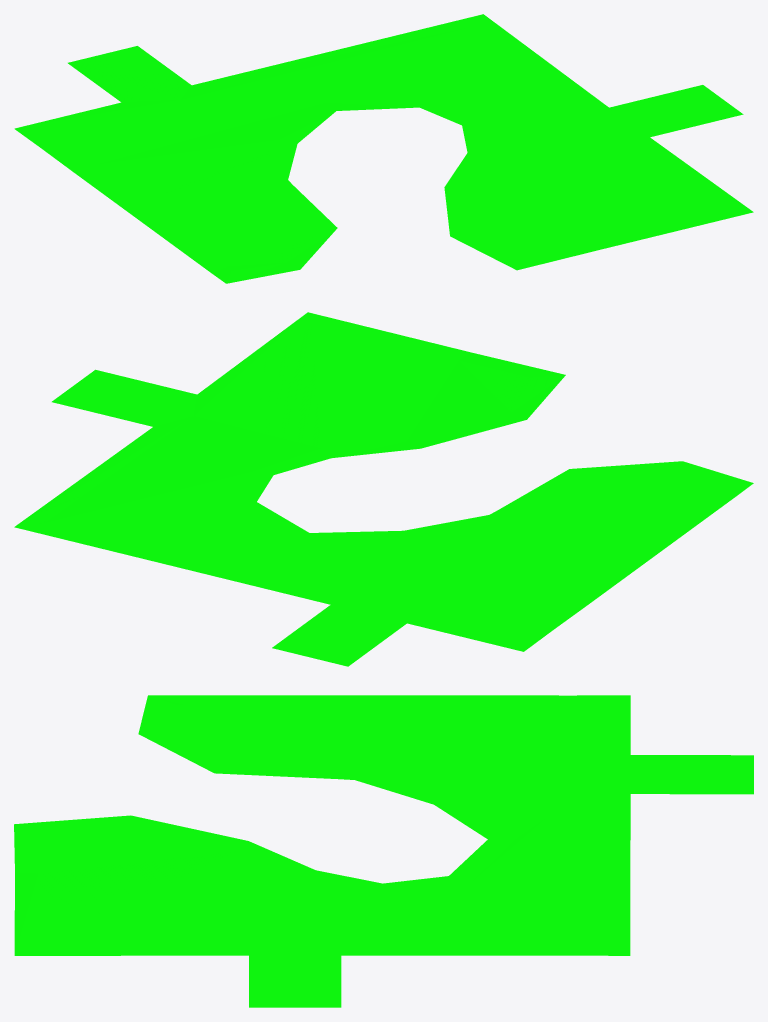
The model's file is s04a_lc1-floor.glb.
The picture shows the model from 3 angles, top to bottom: view 1: azimuth 30°, elevation 25°; view 2: azimuth 150°, elevation 25°; view 3: azimuth 270°, elevation 25°; orthographic projection. The views are drawn at different scales.
Visible parts, largest first — view 1: collision_floor-colonly; view 2: collision_floor-colonly; view 3: collision_floor-colonly.
Part boxes in pixels (<box>): collision_floor-colonly: <box>14,14,753,283</box>; collision_floor-colonly: <box>14,312,753,666</box>; collision_floor-colonly: <box>14,695,753,1007</box>.
Size of the model in its own units: 47.89 by 0.0234 by 47.99.
